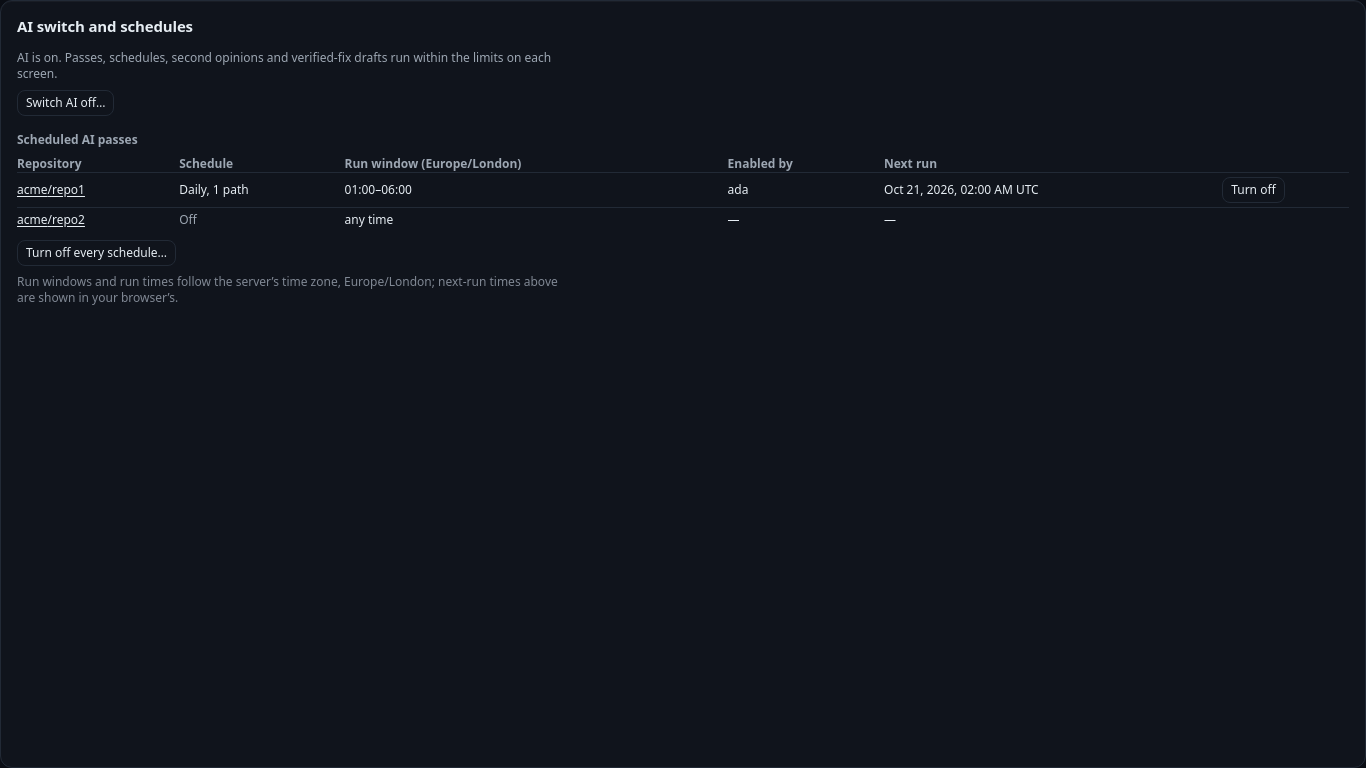
Test case: AiControls › asks before switching AI off, saying what stops, then sends paused
Later steps or results of the test are not shown.
Expected: the text with test id "ai-switch-on" is shown, [17,50,566,82]
Click the button with test id "ai-switch-pause" at (66, 102), box [17,90,114,116]
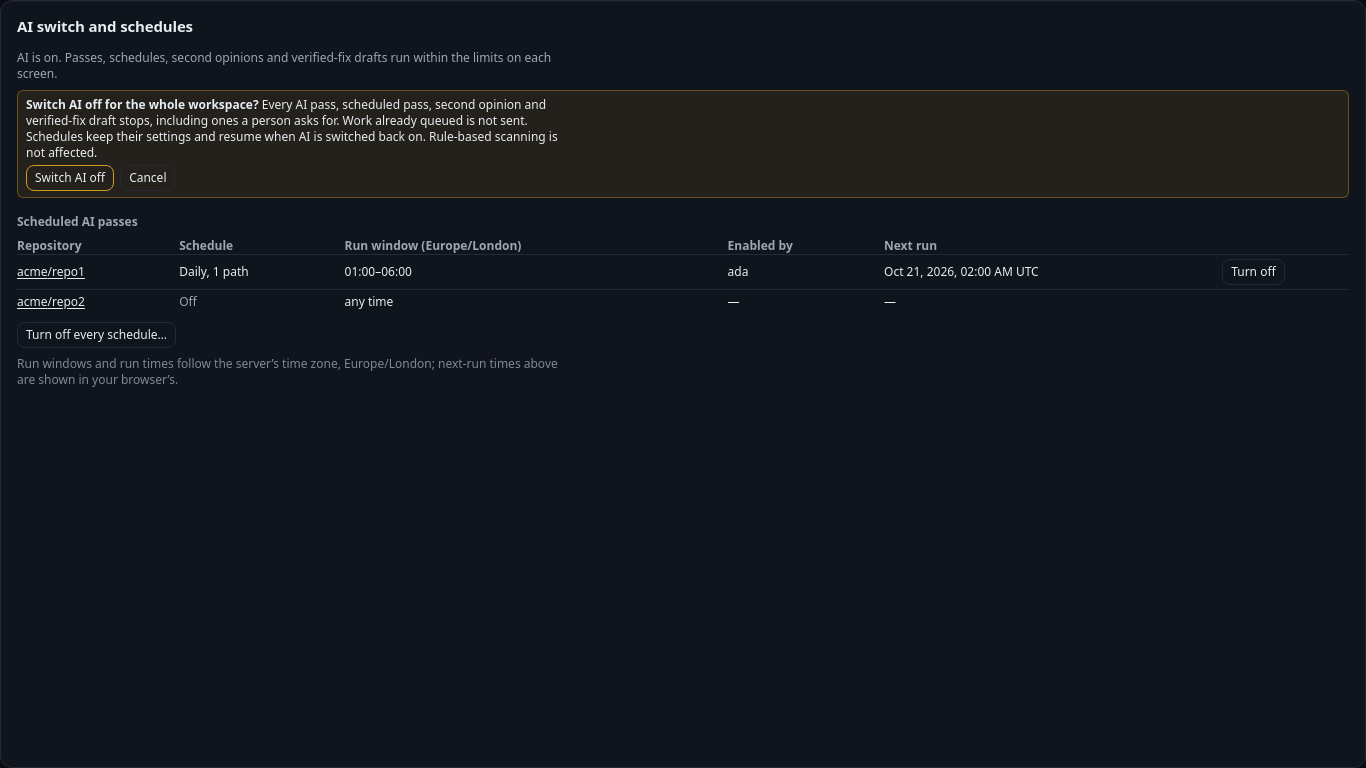
Expected: the element with test id "ai-switch-confirm" shows "verified-fix draft stops, including ones a person asks for", [26,96,558,160]
